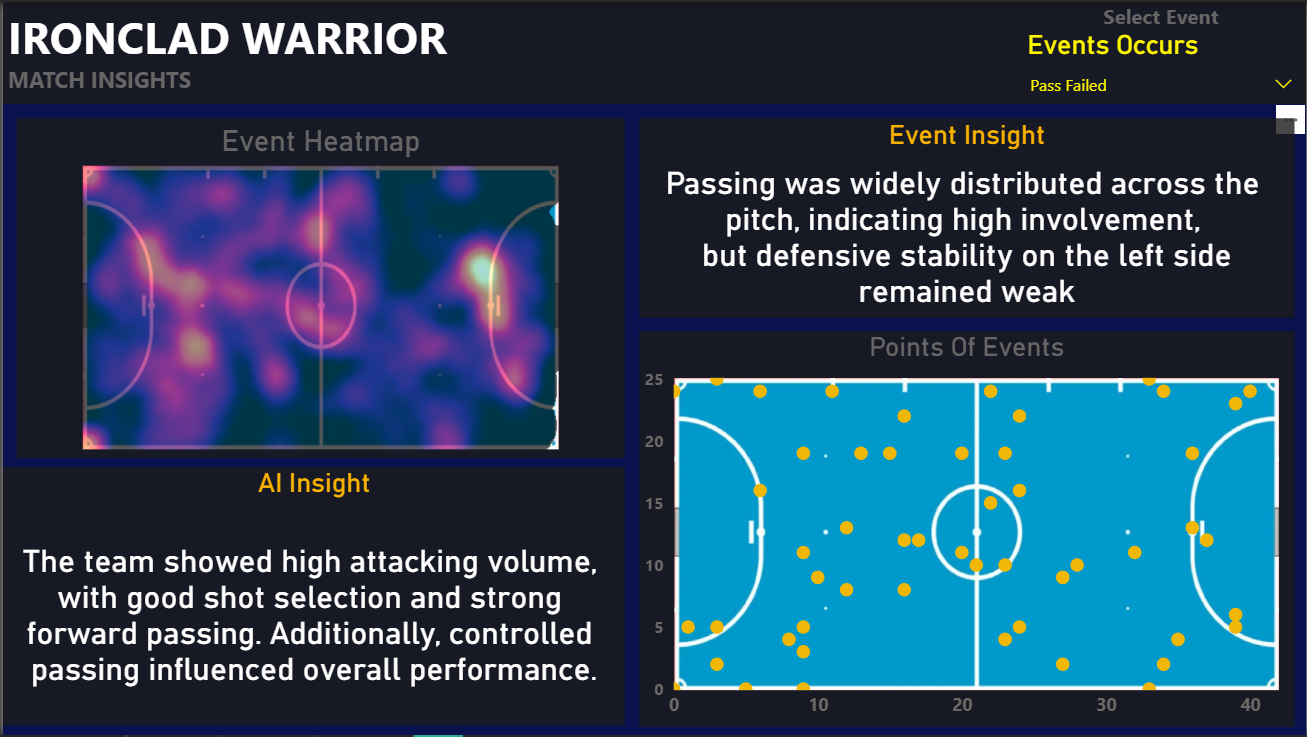

What the dashboard file says about the page in this screenshot:
{"tool":"powerbi","page":{"name":"Page 3","canvas":[1280,720],"ordinal":2},"visuals":[{"type":"shape","box":[0,0,1280.3,100.2],"z":0},{"type":"textbox","box":[0,0,624.4,160.5],"z":1000},{"type":"slicer","title":"Select Event","fields":{"Values":["public match_analysis_zones.event_name"]},"box":[992.1,0,288.2,104.3],"z":2000},{"type":"scatterChart","title":"Points Of Events","fields":{"X":["public match_analysis_zones.event_x"],"Y":["public match_analysis_zones.event_y"]},"box":[625,322.2,643.1,388.9],"z":3000},{"type":"shape","box":[0,456.9,610.6,253.9],"z":4000},{"type":"card","title":"AI Insight","fields":{"Values":["Min(public match_final_insight.final_insight)"]},"box":[0,456.9,610.6,253.9],"z":5000},{"type":"shape","box":[13.7,113.9,596.9,333.4],"z":6000},{"type":"shape","box":[624.4,113.9,643.6,196.2],"z":7000},{"type":"card","title":"Event Insight","fields":{"Values":["Min(public event_insights.insight)"]},"box":[624.4,113.9,643.6,196.2],"z":8000},{"type":"image","box":[13.7,160.5,596.9,278.6],"z":9000},{"type":"textbox","box":[13.7,113.9,596.9,46.7],"z":10000}]}

Visuals, with their boxes in screenshot pixels (x1, y1, x2, y2), scaled from the page's 1280x720 canvas onto the 1307x737 screenshot:
shape: detection(0, 0, 1306, 103)
textbox: detection(0, 0, 638, 164)
"Select Event" slicer: detection(1013, 0, 1306, 107)
"Points Of Events" scatterChart: detection(638, 330, 1295, 728)
shape: detection(0, 468, 623, 728)
"AI Insight" card: detection(0, 468, 623, 728)
shape: detection(14, 117, 623, 458)
shape: detection(638, 117, 1295, 317)
"Event Insight" card: detection(638, 117, 1295, 317)
image: detection(14, 164, 623, 449)
textbox: detection(14, 117, 623, 164)
